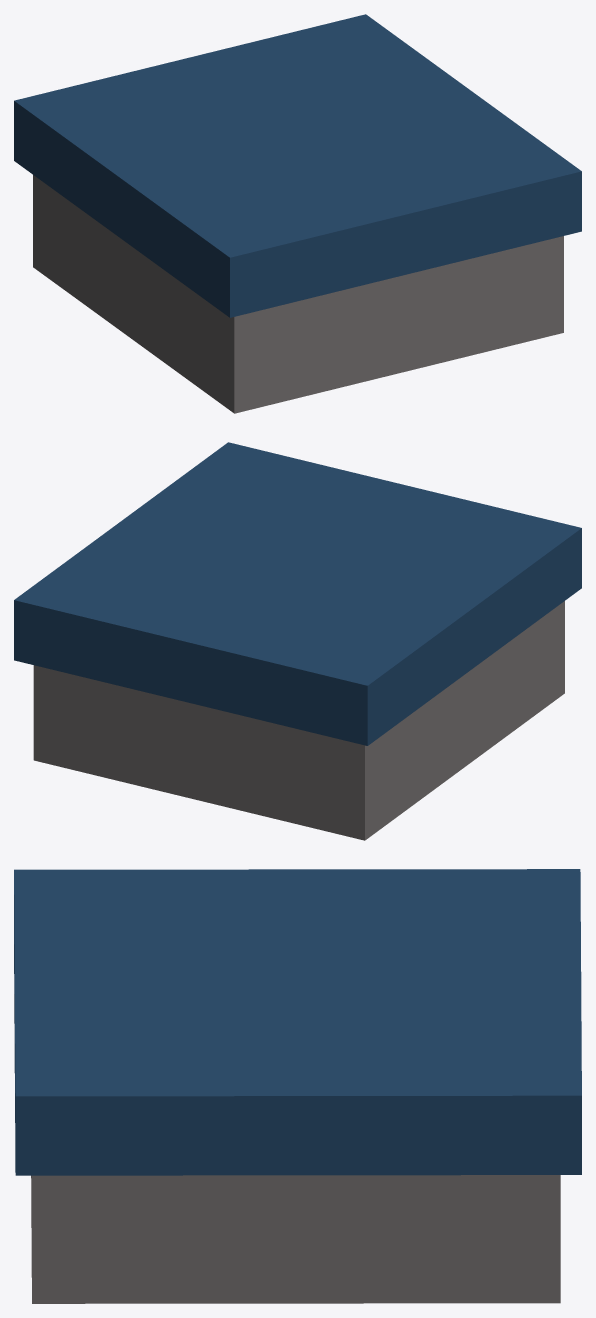
The model's file is blue-box.dae.
3 views of the same model, one above another, from view 1: azimuth 30°, elevation 25°; view 2: azimuth 150°, elevation 25°; view 3: azimuth 270°, elevation 25° (orthographic). The views are drawn at different scales.
Visible parts, largest first — view 1: group_1, group_0; view 2: group_1, group_0; view 3: group_1, group_0.
Boxes of the visible parts, x1,y1,x2,y2 form: group_1: [14, 14, 581, 317]; group_0: [33, 175, 563, 413]; group_1: [14, 442, 581, 745]; group_0: [33, 601, 564, 840]; group_1: [14, 869, 581, 1175]; group_0: [31, 1175, 560, 1303].
Bounding box in the file's own units: 18.76 × 19.81 × 8.27.
